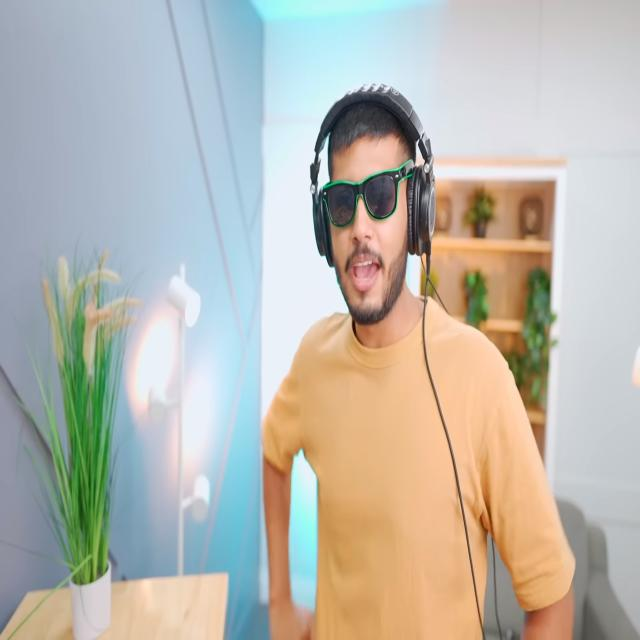Headphone: (307, 77, 438, 272)
